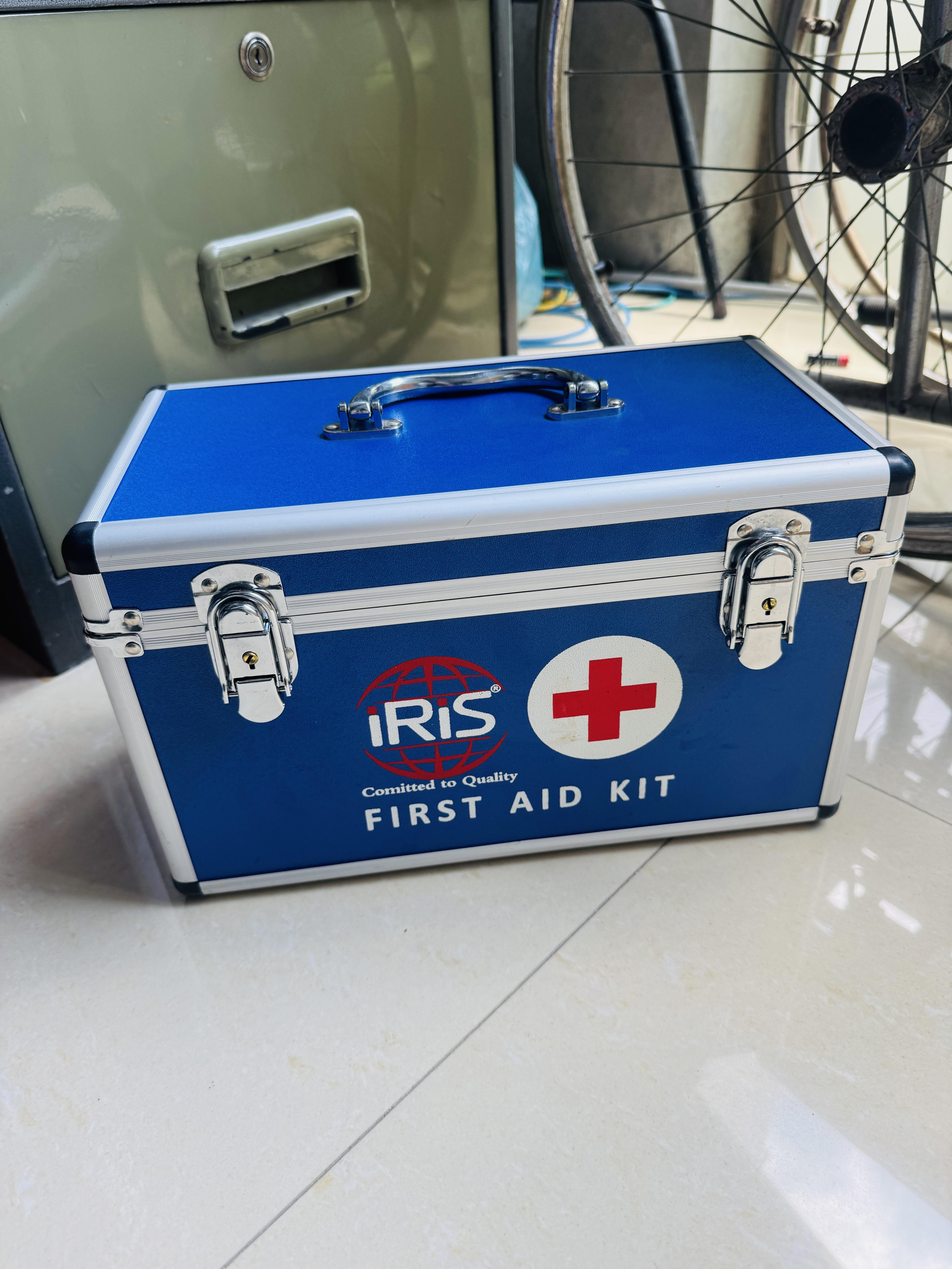FirstAidBox: (46, 317, 923, 906)
